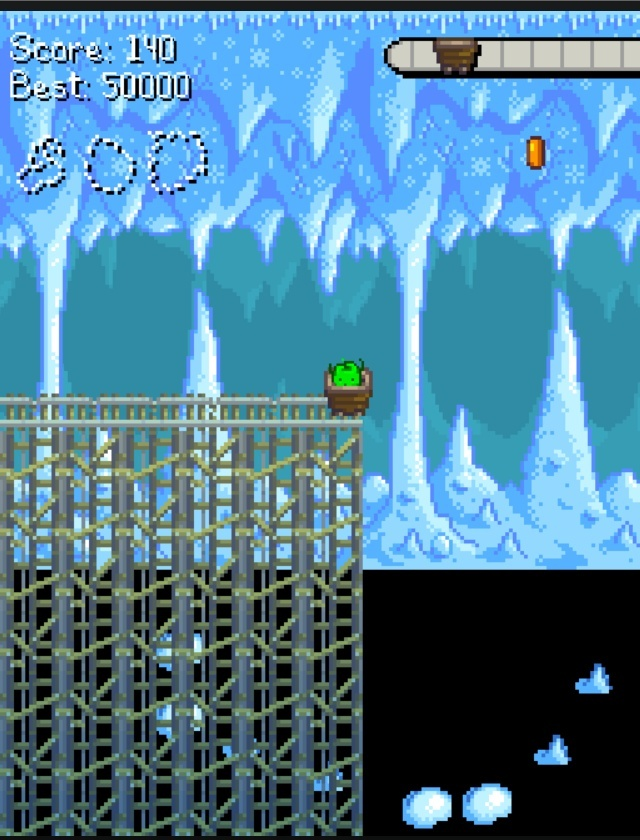coins: (527, 136, 545, 169)
minecart: (324, 360, 371, 414)
score: (121, 31, 180, 66)
tracks: (0, 386, 319, 433)
